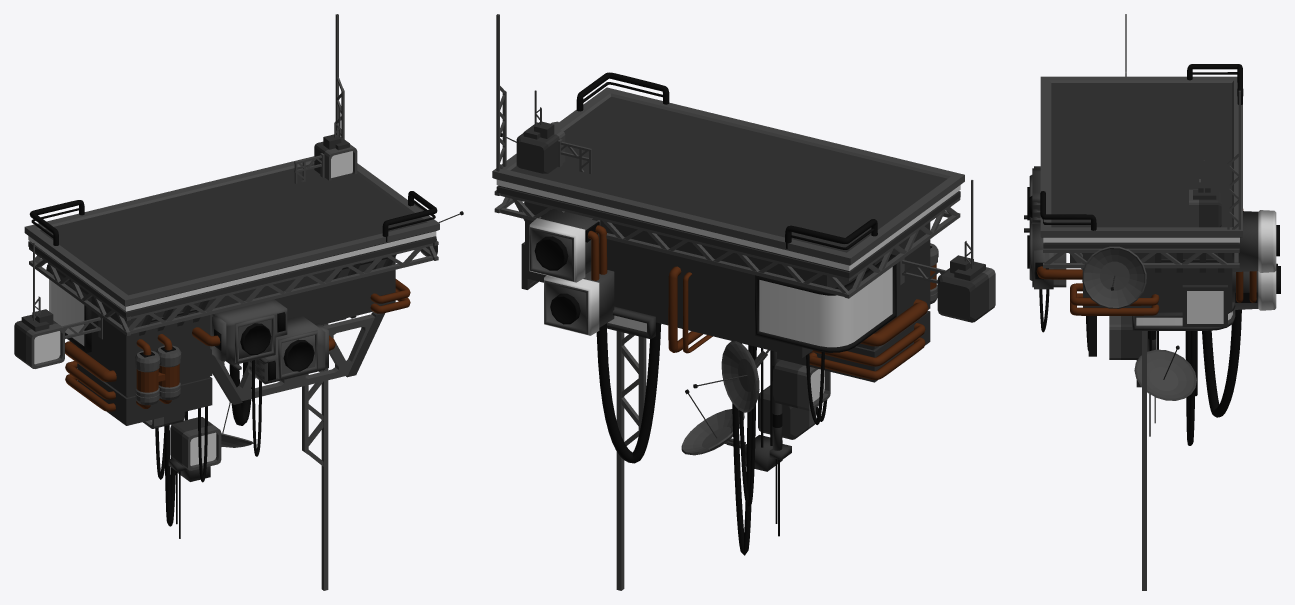
Rendered from Platform_4x2_Cube_076.obj.
3 views of the same model, side by side, from view 1: azimuth 30°, elevation 25°; view 2: azimuth 150°, elevation 25°; view 3: azimuth 270°, elevation 25° (orthographic). The views are drawn at different scales.
Parts seen in each view (by area): view 1: Platform_4x2_Cube.076; view 2: Platform_4x2_Cube.076; view 3: Platform_4x2_Cube.076.
Boxes of the visible parts, x1,y1,x2,y2 form: Platform_4x2_Cube.076: [14, 14, 463, 590]; Platform_4x2_Cube.076: [492, 14, 995, 590]; Platform_4x2_Cube.076: [1024, 14, 1280, 590].
Size of the model in its own units: 5.32 by 6.16 by 2.71.
